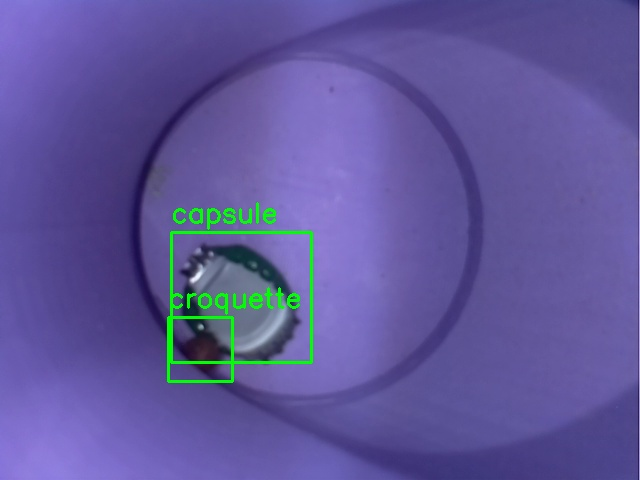capsule: (171, 232, 311, 362)
croquette: (168, 317, 232, 381)
